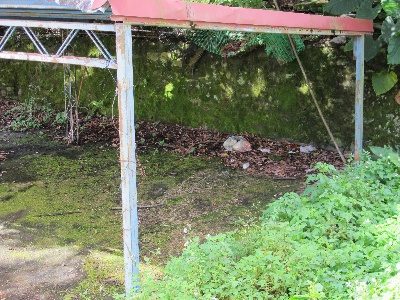plastic_bag: (221, 133, 252, 155)
